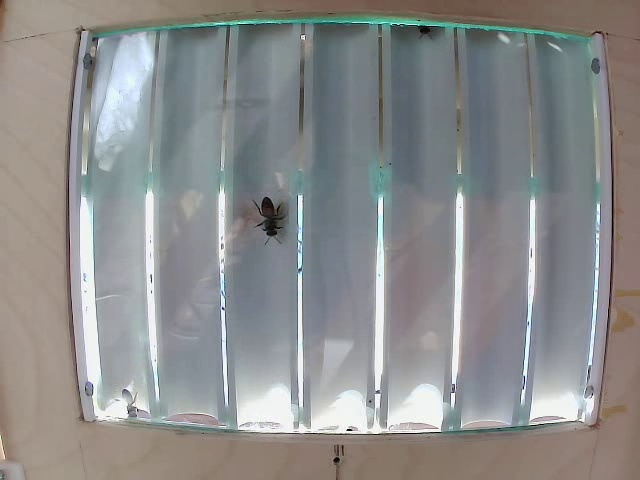bee: (254, 192, 278, 243)
